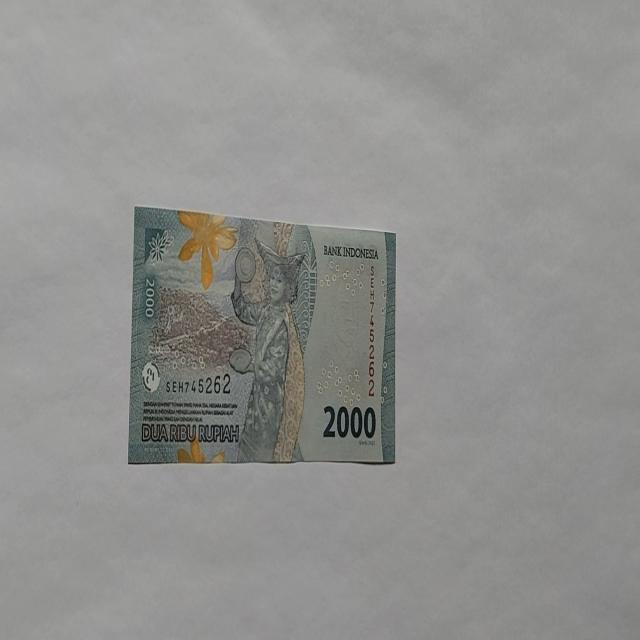dua ribu rupiah: (127, 206, 397, 466), (228, 236, 306, 462), (176, 208, 238, 291)
